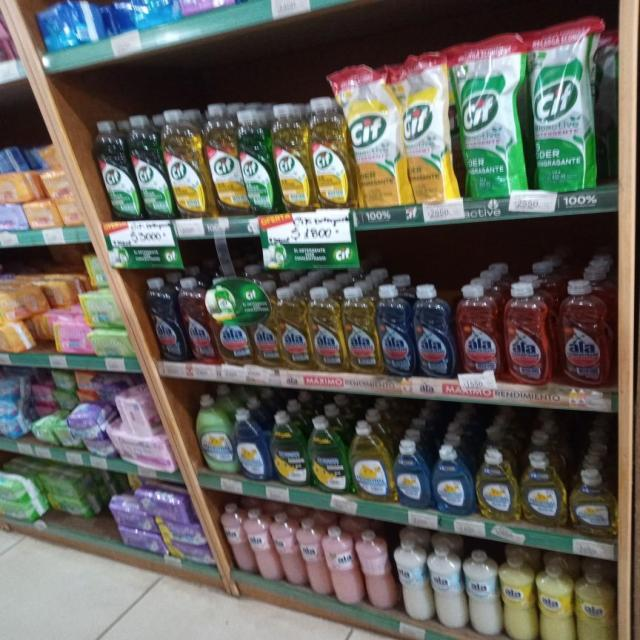ala_conc_amarillo: (344, 286, 377, 376), (309, 286, 342, 373), (277, 286, 308, 371), (252, 311, 278, 368)
ala_conc_azul: (414, 284, 454, 379), (379, 284, 412, 378), (148, 276, 182, 361)
ala_conc_rojo: (557, 278, 613, 388), (503, 281, 552, 387), (457, 284, 500, 382), (214, 288, 250, 365), (182, 276, 212, 363)
ala_crem_amarillo: (576, 560, 617, 640), (538, 554, 574, 640), (502, 550, 536, 640)
ala_crem_blanco: (466, 548, 500, 638), (430, 538, 463, 630)
ala_crem_rosado: (327, 526, 358, 605), (300, 518, 324, 597), (273, 512, 298, 587), (247, 509, 272, 582), (222, 503, 246, 573)
cif_conc_bot_amarilla: (166, 108, 204, 220), (312, 97, 349, 211), (274, 102, 310, 213), (206, 104, 239, 218)
cif_conc_botella_verde: (95, 120, 132, 221), (240, 104, 273, 215), (133, 114, 165, 220)
cif_conc_sachet_amarillo: (402, 51, 453, 206), (348, 63, 401, 208)
cif_conc_sachet_verde: (459, 34, 528, 198), (533, 16, 597, 192)
magistral_con_amarillo: (521, 450, 566, 528), (350, 420, 391, 502), (570, 466, 616, 538), (476, 447, 518, 522)
magistral_con_azul: (433, 444, 473, 516), (394, 439, 430, 509), (235, 407, 269, 481)
magistral_con_crema: (195, 392, 232, 473)
magistral_con_verde: (309, 415, 347, 494), (271, 410, 308, 488)
